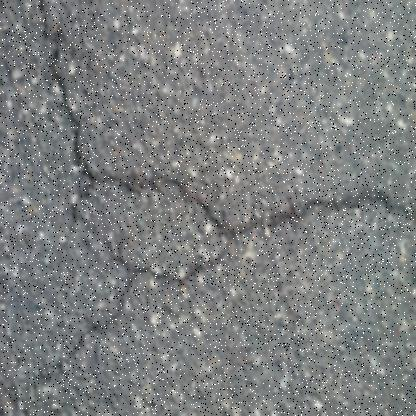Cracks: (40, 0, 415, 248), (28, 234, 237, 397)
